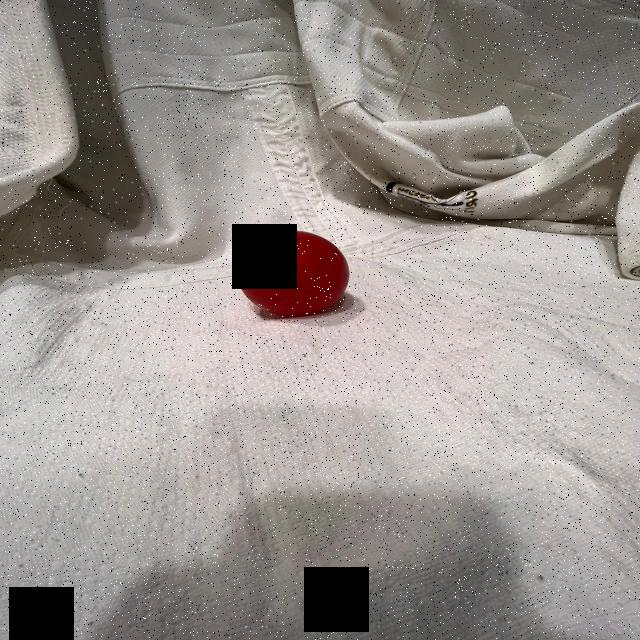ball: (234, 228, 352, 317)
